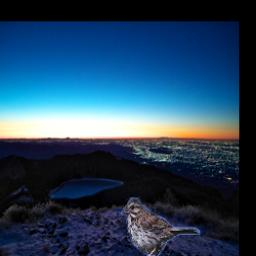Sparrow: (122, 195, 201, 256)
